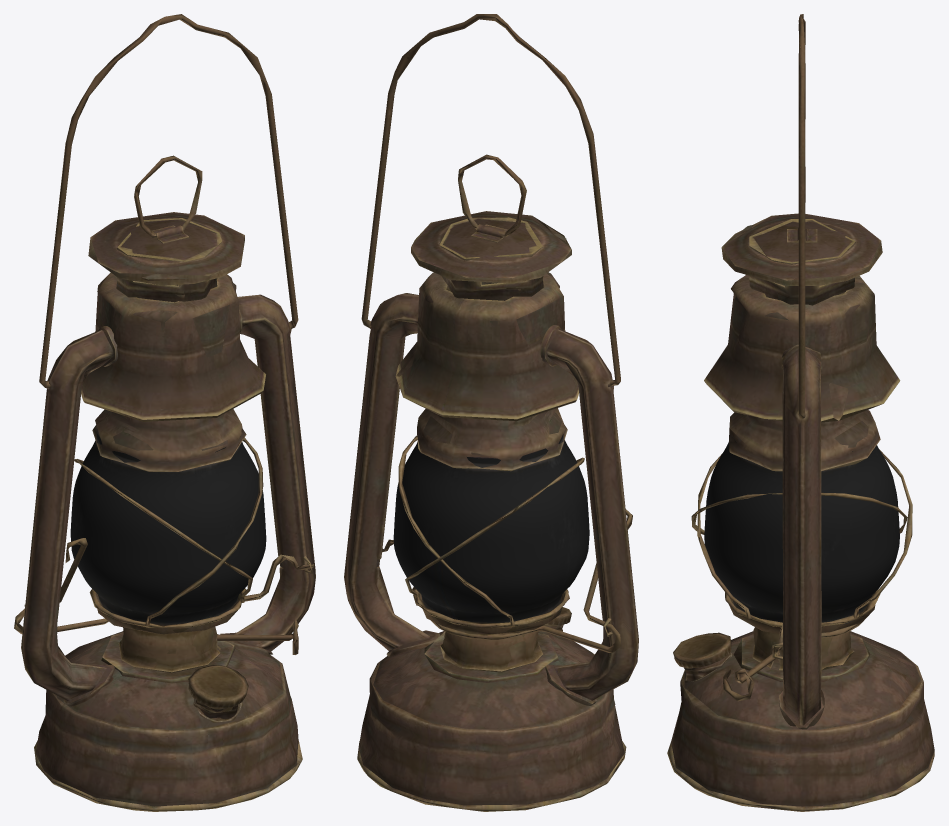
File: deploy_lamp.glb
The picture shows the model from 3 angles, left to right: view 1: azimuth 30°, elevation 25°; view 2: azimuth 150°, elevation 25°; view 3: azimuth 270°, elevation 25°; orthographic projection.
Visible parts, largest first — view 1: Lantern_01, Lantern_01_glass; view 2: Lantern_01, Lantern_01_glass; view 3: Lantern_01, Lantern_01_glass.
Part boxes in pixels (x1,y1,x2,y2): Lantern_01: [14, 14, 315, 811]; Lantern_01_glass: [70, 427, 266, 625]; Lantern_01: [344, 14, 638, 811]; Lantern_01_glass: [393, 434, 589, 622]; Lantern_01: [667, 14, 934, 811]; Lantern_01_glass: [704, 436, 899, 624].
Size of the model in its own units: 0.7993 by 1.93 by 0.6323.
Materials: 2 (2 with a texture image).
